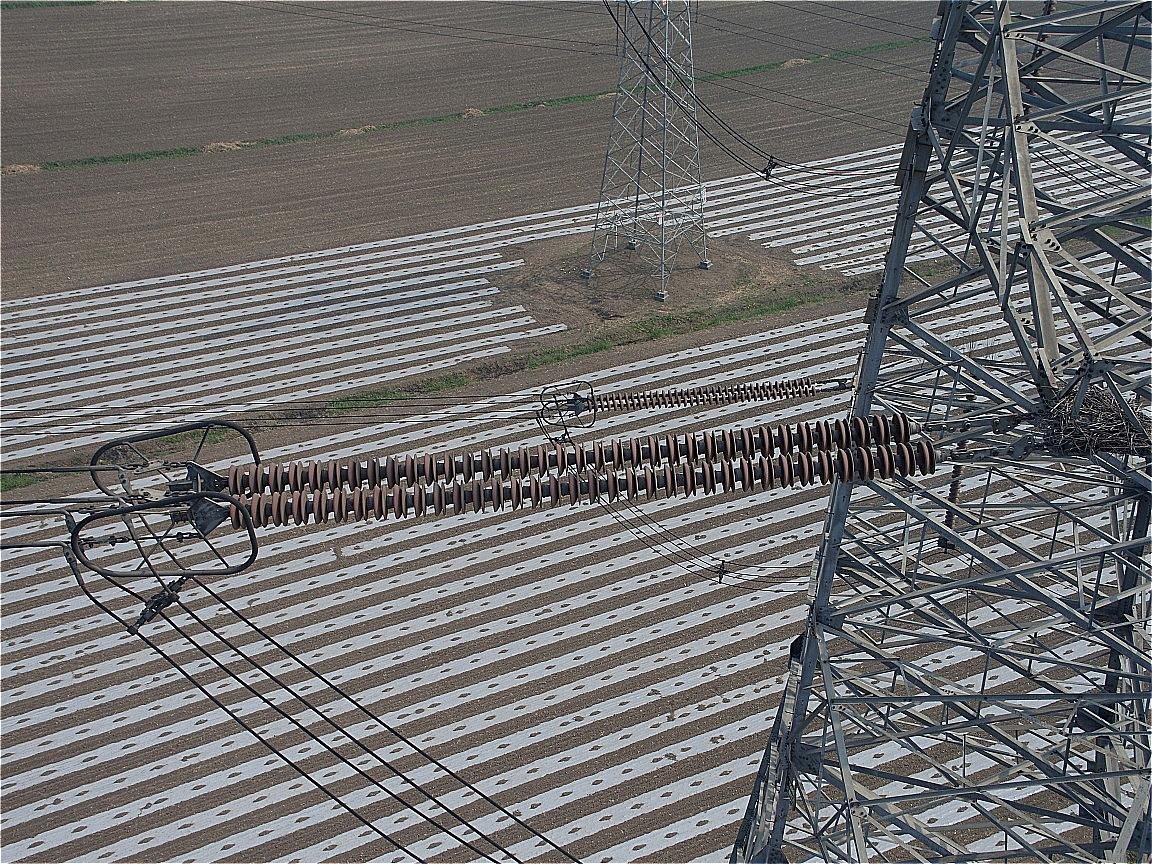insultor1: (586, 376, 818, 414)
insultor2: (226, 412, 937, 533)
